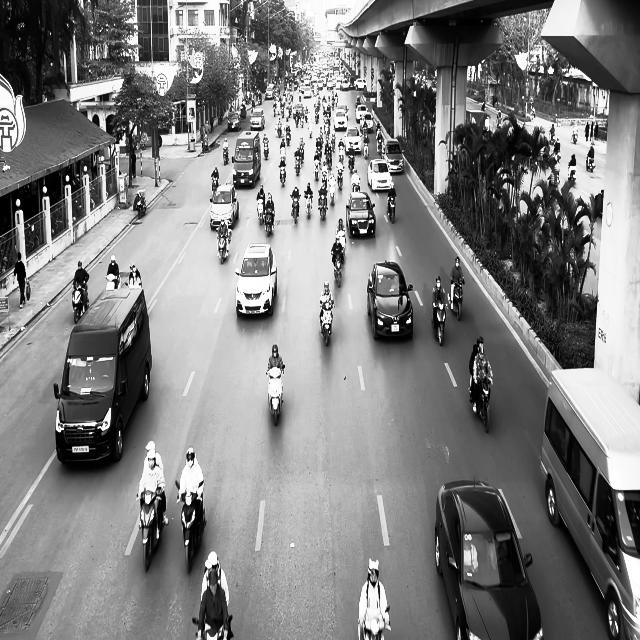bus: (539, 366, 640, 638)
car: (434, 476, 544, 640), (367, 260, 413, 340), (235, 243, 277, 317), (345, 190, 376, 238), (209, 183, 239, 230), (367, 158, 393, 192), (382, 139, 404, 174), (227, 111, 241, 131)
motorbike: (175, 478, 207, 574), (136, 489, 166, 571), (266, 364, 285, 426), (472, 374, 492, 432), (358, 606, 391, 640), (192, 614, 233, 639), (431, 296, 448, 346), (72, 276, 89, 324), (319, 301, 334, 346), (450, 278, 464, 320), (216, 227, 231, 264), (128, 263, 142, 288), (134, 190, 146, 217), (290, 194, 300, 224), (387, 192, 396, 222), (304, 190, 313, 218), (256, 197, 264, 224)
truck: (53, 285, 152, 465)
